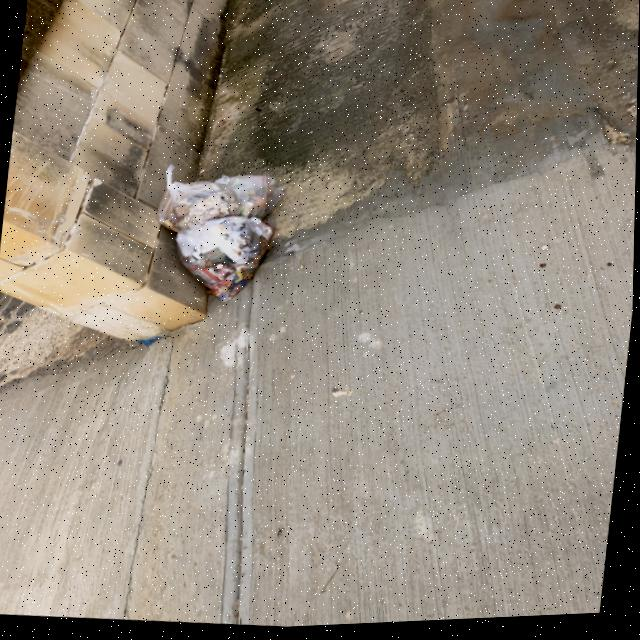Organic Waste -White Bag-: (168, 210, 279, 311), (155, 157, 281, 235)
